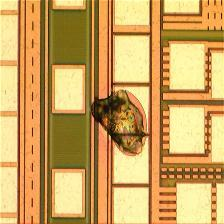PARTICLE: (88, 88, 151, 159)
